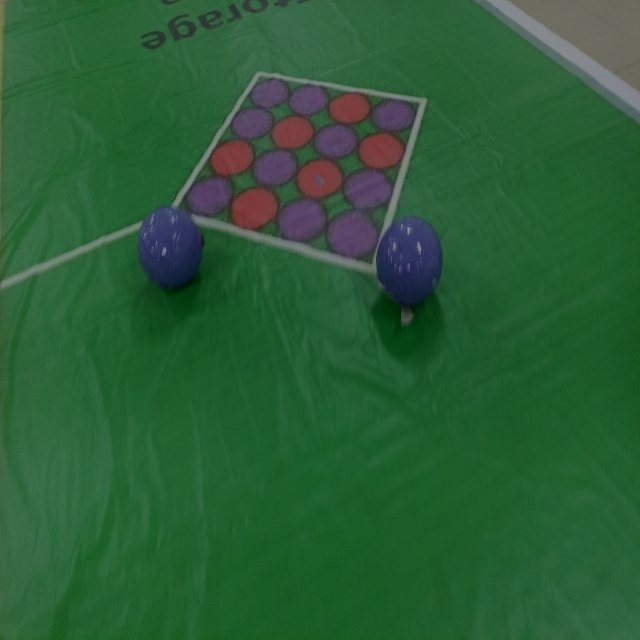purple_ball: (374, 208, 447, 314), (133, 200, 207, 302)
